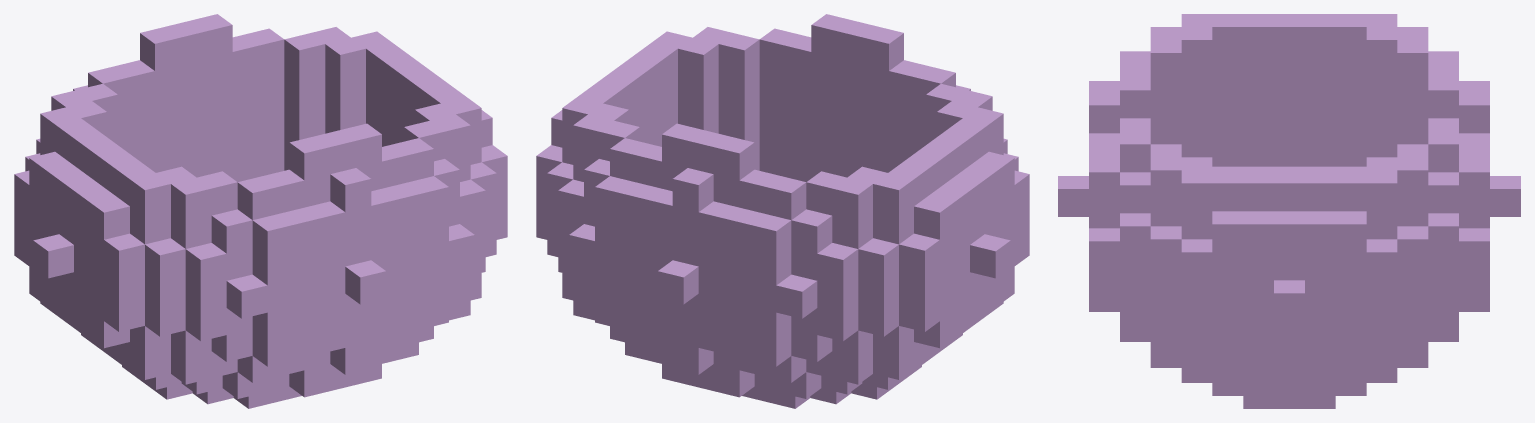
File: alien-biosphere-geode-bowl-d0e628aa__22737.glb
3 views of the same model, side by side, from view 1: azimuth 30°, elevation 25°; view 2: azimuth 150°, elevation 25°; view 3: azimuth 270°, elevation 25° (orthographic). The views are drawn at different scales.
Visible parts, largest first — view 1: geode-bowl; view 2: geode-bowl; view 3: geode-bowl.
Boxes of the visible parts, x1=… form: geode-bowl: x1=14, y1=14, x2=507, y2=408; geode-bowl: x1=536, y1=14, x2=1029, y2=408; geode-bowl: x1=1058, y1=14, x2=1520, y2=408.
Size of the model in its own units: 3.4 by 2.2 by 3.
